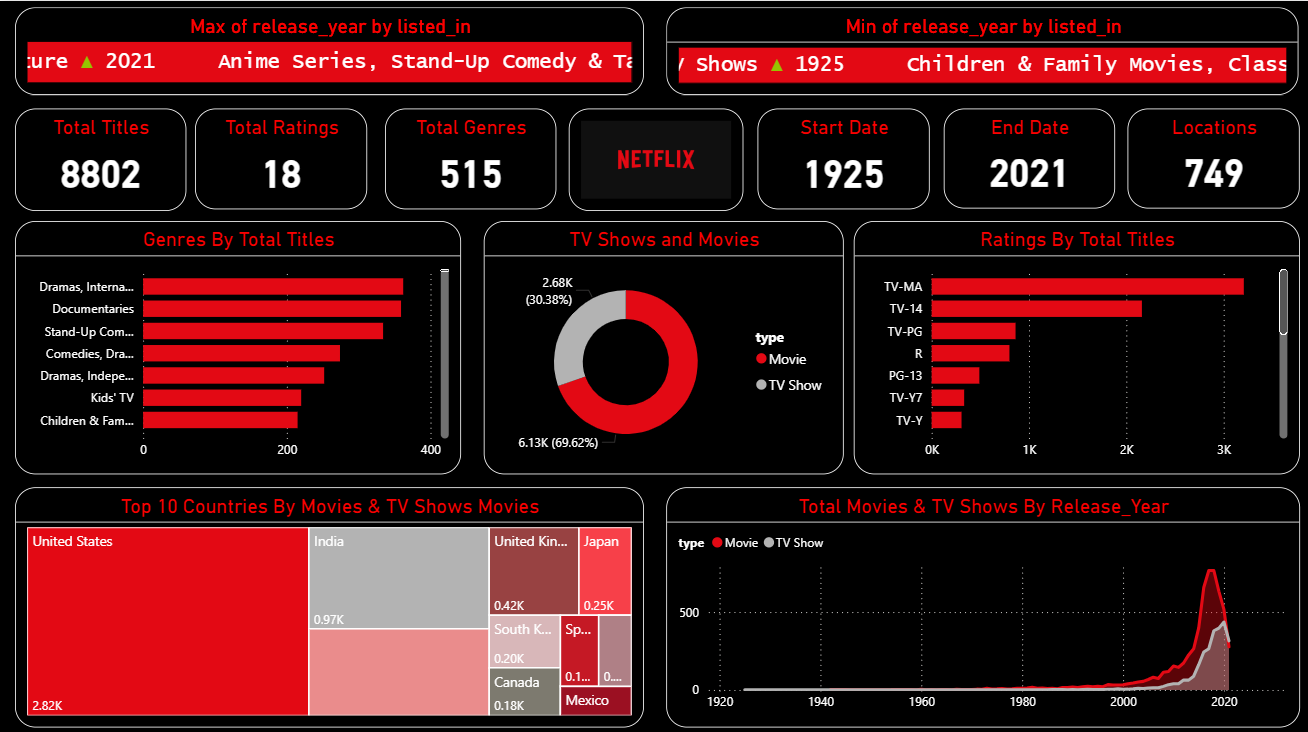

Layout of this report page (visuals, bound fields, positions):
{"tool":"powerbi","page":{"name":"Page 1","canvas":[1280,720],"ordinal":0},"visuals":[{"type":"donutChart","title":"TV Shows and Movies","fields":{"Y":["CountNonNull(netflix_titles.show_id)"],"Category":["netflix_titles.type"]},"box":[472,214.6,351.2,247.6],"z":0},{"type":"barChart","title":"Ratings By Total Titles","fields":{"Category":["netflix_titles.rating"],"Y":["CountNonNull(netflix_titles.show_id)"]},"box":[832.9,214.6,435.4,247.6],"z":1000},{"type":"barChart","title":"Genres By Total Titles","fields":{"Category":["netflix_titles.listed_in"],"Y":["CountNonNull(netflix_titles.show_id)"]},"box":[14.6,214.6,435.4,247.6],"z":2000},{"type":"areaChart","title":"Total Movies & TV Shows By Release_Year","fields":{"Category":["netflix_titles.release_year"],"Y":["CountNonNull(netflix_titles.show_id)"],"Series":["netflix_titles.type"]},"box":[650,474.4,618.3,234.1],"z":3000},{"type":"treemap","title":"Top 10 Countries By Movies & TV Shows Movies","fields":{"Values":["CountNonNull(netflix_titles.show_id)"],"Group":["netflix_titles.country"]},"box":[14.6,474.4,613.4,234.1],"z":4000},{"type":"image","box":[554.9,104.9,170.7,100],"z":5000},{"type":"card","title":"Total Titles","fields":{"Values":["Count(netflix_titles.title)"]},"box":[14.6,104.9,167.1,100],"z":6000},{"type":"card","title":"Total Ratings","fields":{"Values":["Count(netflix_titles.rating)"]},"box":[190.2,104.9,168.3,98.8],"z":7000},{"type":"card","title":"Total Genres","fields":{"Values":["Count(netflix_titles.listed_in)"]},"box":[375.6,104.9,167.1,98.8],"z":8000},{"type":"card","title":"Locations","fields":{"Values":["Count(netflix_titles.country)"]},"box":[1100,104.9,168.3,97.6],"z":9000},{"type":"card","title":"End Date","fields":{"Values":["Max(netflix_titles.release_year)"]},"box":[920.7,104.9,167.1,97.6],"z":10000},{"type":"card","title":"Start Date","fields":{"Values":["Min(netflix_titles.release_year)"]},"box":[739,104.9,168.3,98.8],"z":11000},{"type":"ScrollingTextVisual1448795304508","fields":{"Measure Deviation":["Max(netflix_titles.release_year)"],"Category":["netflix_titles.listed_in"]},"box":[14.6,6.1,613.4,85.4],"z":11001},{"type":"ScrollingTextVisual1448795304508","fields":{"Category":["netflix_titles.listed_in"],"Measure Deviation":["Min(netflix_titles.release_year)"]},"box":[650,6.1,617.1,85.4],"z":11002}]}

Visuals, with their boxes in screenshot pixels (x1, y1, x2, y2), scaled from the page's 1280x720 canvas onto the 1308x732 screenshot:
"TV Shows and Movies" donutChart: select_region(482, 218, 841, 470)
"Ratings By Total Titles" barChart: select_region(851, 218, 1296, 470)
"Genres By Total Titles" barChart: select_region(15, 218, 460, 470)
"Total Movies & TV Shows By Release_Year" areaChart: select_region(664, 482, 1296, 720)
"Top 10 Countries By Movies & TV Shows Movies" treemap: select_region(15, 482, 642, 720)
image: select_region(567, 107, 741, 208)
"Total Titles" card: select_region(15, 107, 186, 208)
"Total Ratings" card: select_region(194, 107, 366, 207)
"Total Genres" card: select_region(384, 107, 555, 207)
"Locations" card: select_region(1124, 107, 1296, 206)
"End Date" card: select_region(941, 107, 1112, 206)
"Start Date" card: select_region(755, 107, 927, 207)
ScrollingTextVisual1448795304508 - Max(netflix_titles.release_year) x netflix_titles.listed_in: select_region(15, 6, 642, 93)
ScrollingTextVisual1448795304508 - netflix_titles.listed_in x Min(netflix_titles.release_year): select_region(664, 6, 1295, 93)
